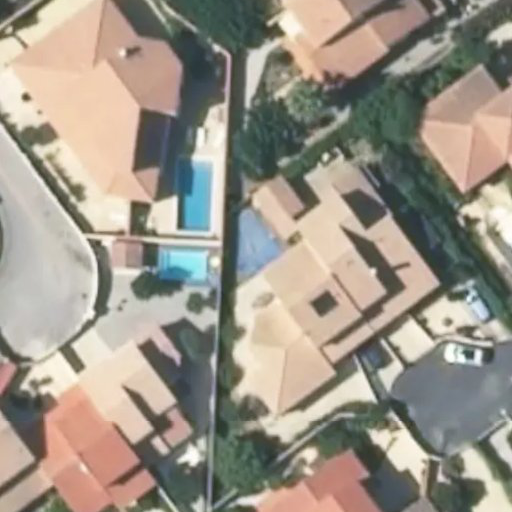pool: (220, 233, 277, 250)
